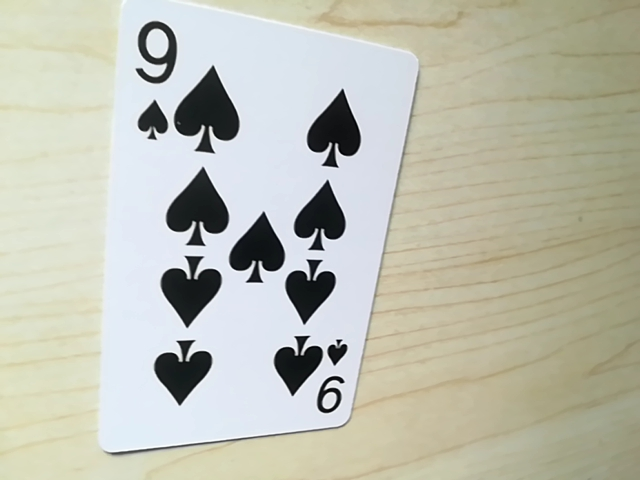ht 9: (119, 8, 189, 150), (309, 348, 350, 420)
